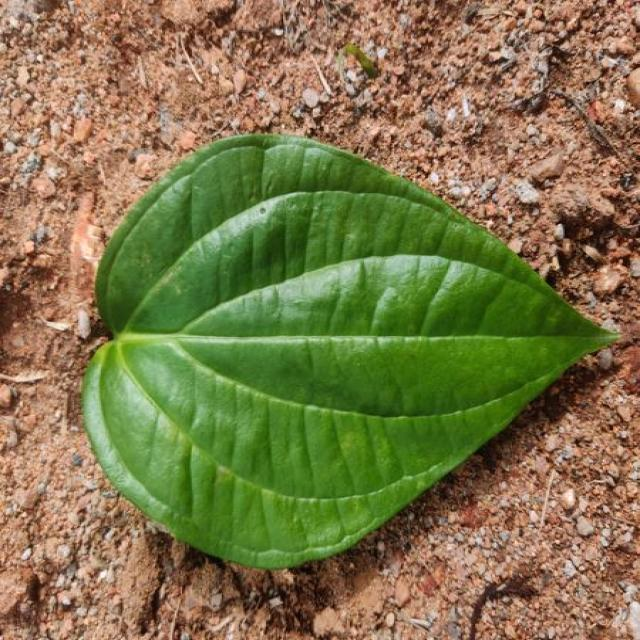betel: (83, 135, 617, 568)
